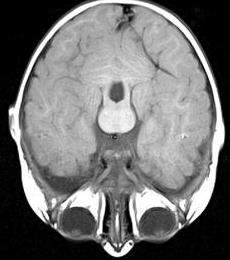Normal_Brain: (1, 1, 230, 260)
